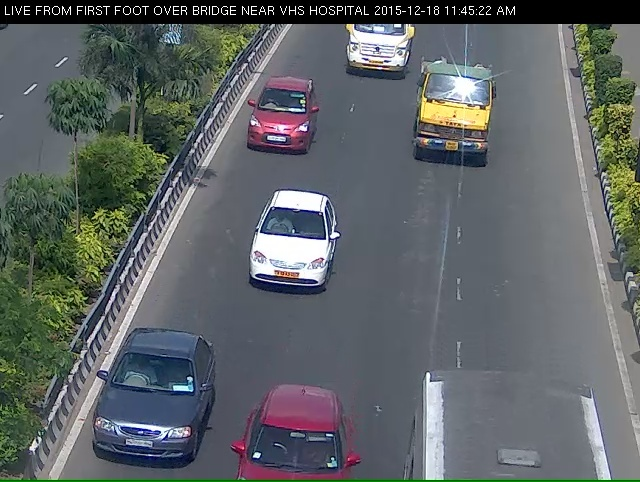Auto: (417, 64, 500, 181)
Bus: (396, 382, 621, 480), (339, 17, 414, 86)
Car: (84, 338, 207, 478), (234, 196, 341, 316), (222, 407, 359, 478), (246, 73, 310, 166)
